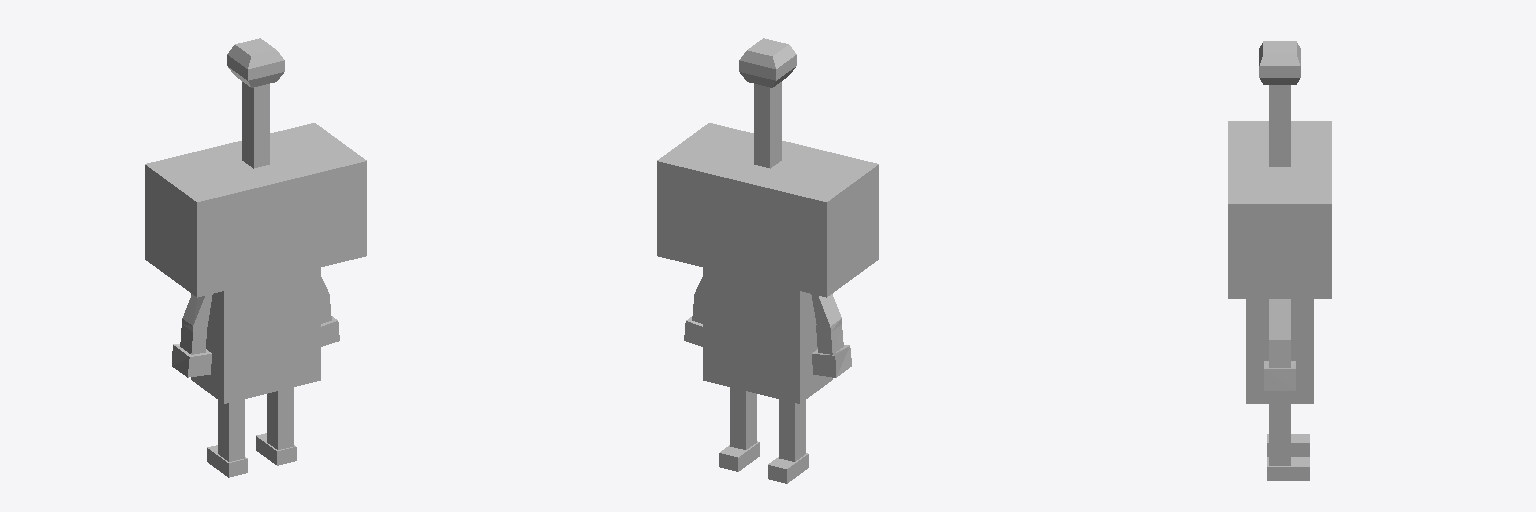
The model's file is mikan3d.obj.
3 renders of one model, left to right at view 1: azimuth 30°, elevation 25°; view 2: azimuth 150°, elevation 25°; view 3: azimuth 270°, elevation 25°, orthographic.
Visible parts, largest first — view 1: Plane; view 2: Plane; view 3: Plane.
Part boxes in pixels (x1,y1,x2,y2): Plane: (145,38,366,477); Plane: (657,38,878,483); Plane: (1228,41,1331,480).
Bounding box in the file's own units: 2.1 × 4.92 × 1.12.